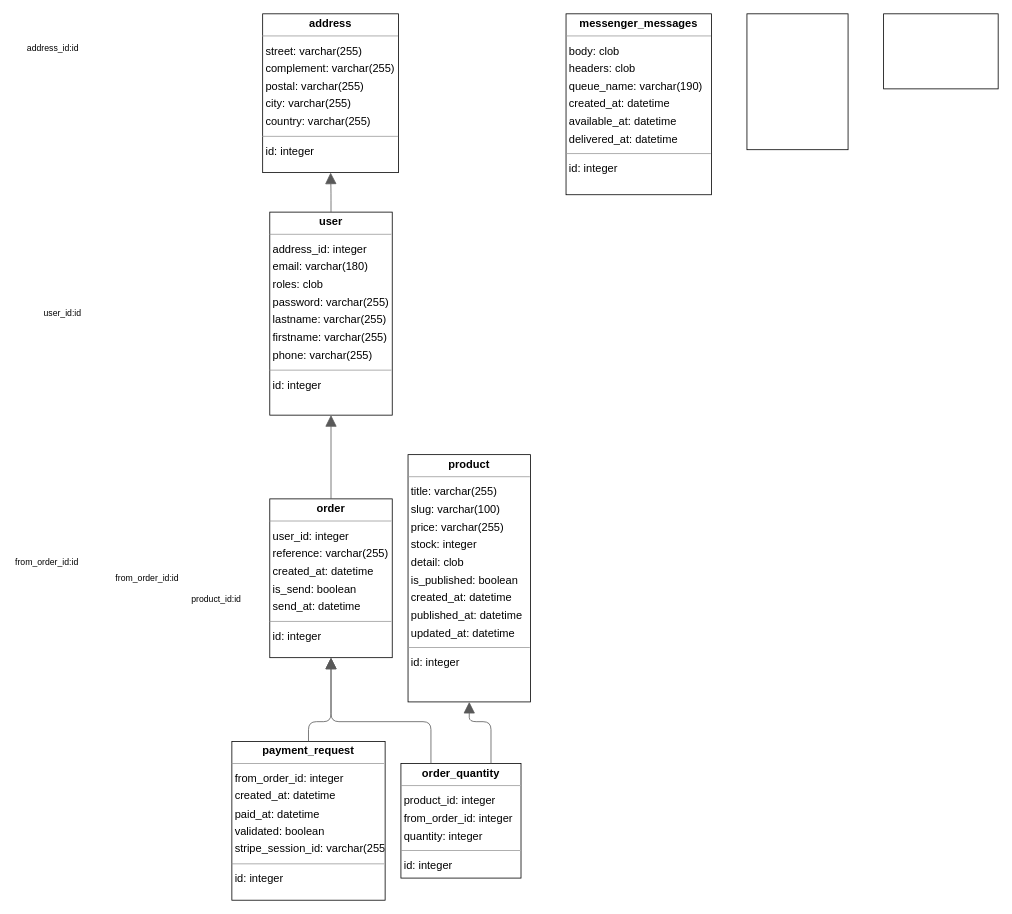
The diagram is 1012 pixels wide and 914 high, and some of its shapes have lost their labels. Here are the shapes that lost their labels. From the top down, the box of each, then its label:
(883, 13, 998, 89): sqlite_sequence name: unknown seq: unknown
(746, 13, 848, 150): sqlite_master type: text name: text tbl_name: text rootpage: int sql: text
